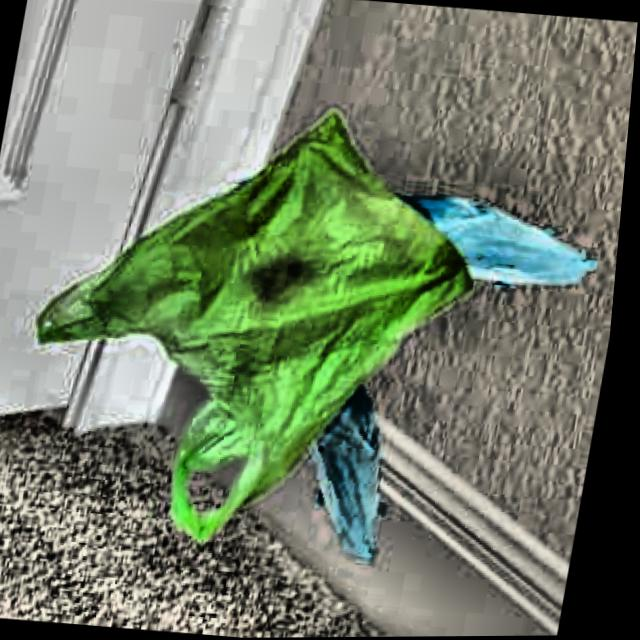Plastic: (0, 78, 509, 567), (159, 143, 624, 590)
